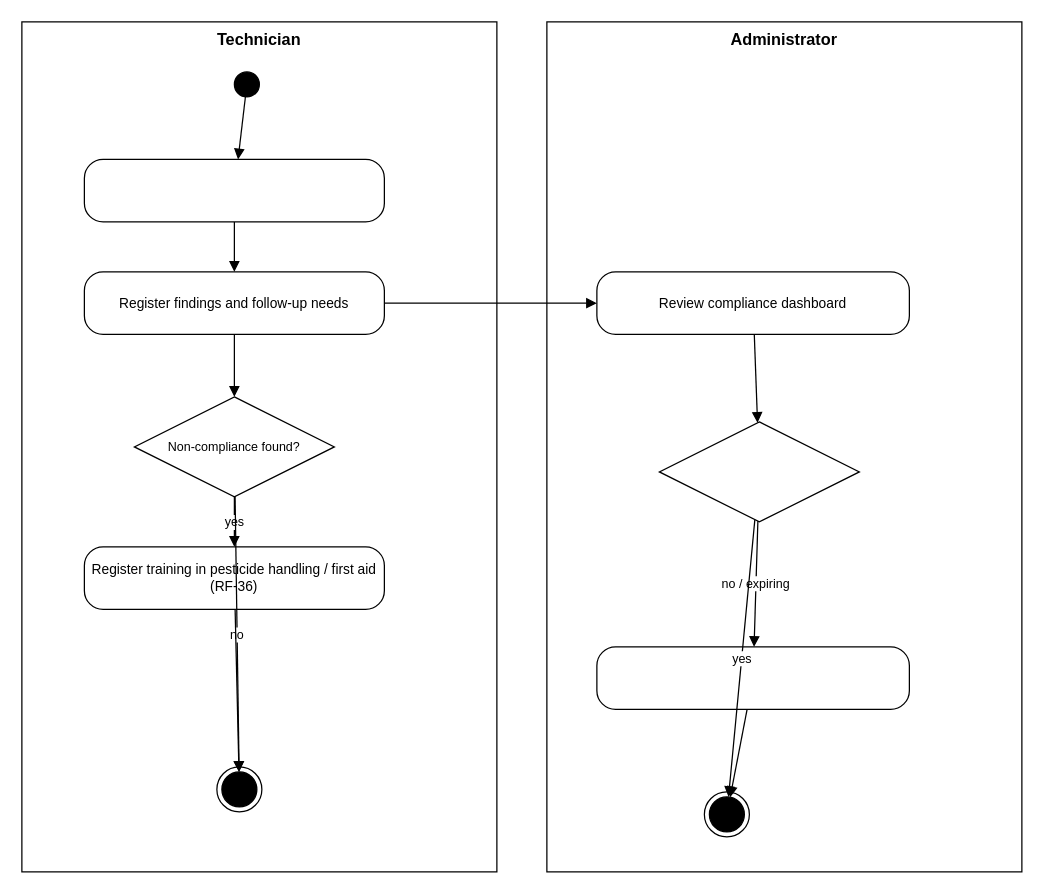
Image size: 1044x894. Some labels were removed from this diagram. The centre of each missing label's shape, as x and y in pixels:
"Certificate valid?" belongs at pixel 758 471.
"Conduct periodic technical visit to plot (RF-21)" belongs at pixel 233 190.
"Request BPA certification renewal before AGROCALIDAD (RF-25)" belongs at pixel 752 677.
